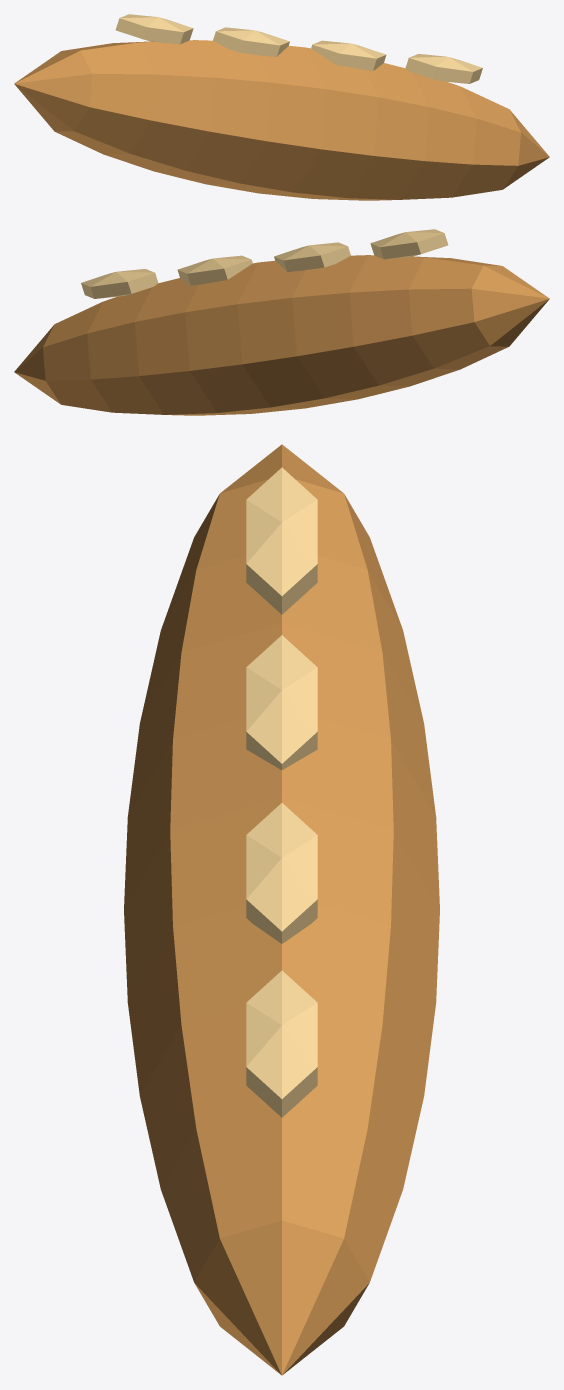
The model's file is Food_Baguette.obj.
3 renders of one model, top to bottom at view 1: azimuth 30°, elevation 25°; view 2: azimuth 150°, elevation 25°; view 3: azimuth 270°, elevation 25°, orthographic. The views are drawn at different scales.
Size of the model in its own units: 2.35 by 1.09 by 0.6.
